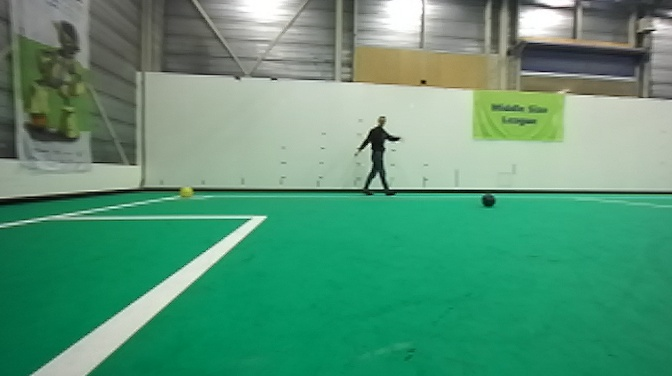ball: (478, 189, 500, 211), (177, 181, 197, 200)
human: (355, 112, 413, 200)
